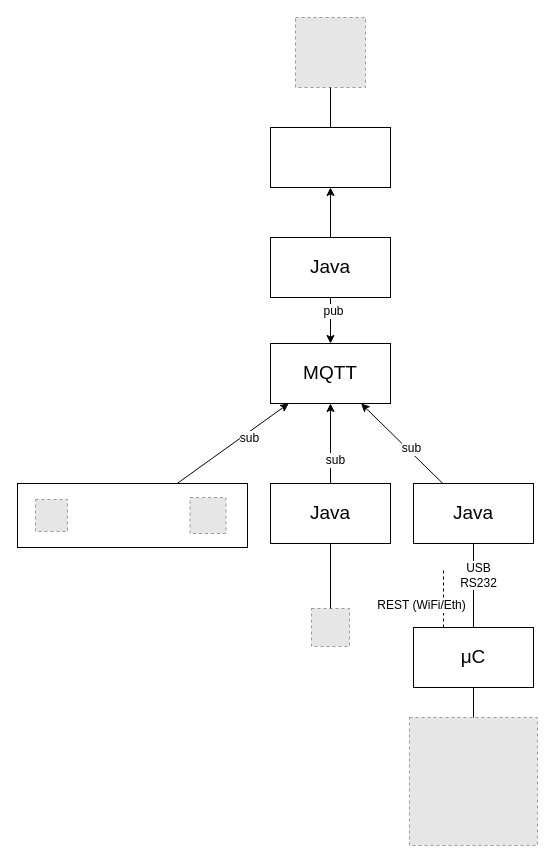
This 555x863 diagram has some shape labels left out. Grey dashed boxes stand in for pictures. The box of each missing label's shape, as (x1, y1, x2, y2) in pixels:
Angular- UI: (16, 482, 248, 548)
OpenCV + YOLOv3: (270, 126, 390, 188)
